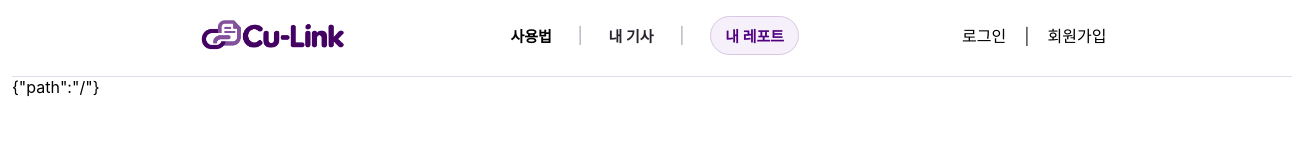
Test case: guest navigation offers an explicit login action and returns to saved articles
Expected: the link "로그인" is shown, [962, 26, 1011, 46]
Click the button "내 기사".
click(631, 35)  # box [608, 24, 654, 46]
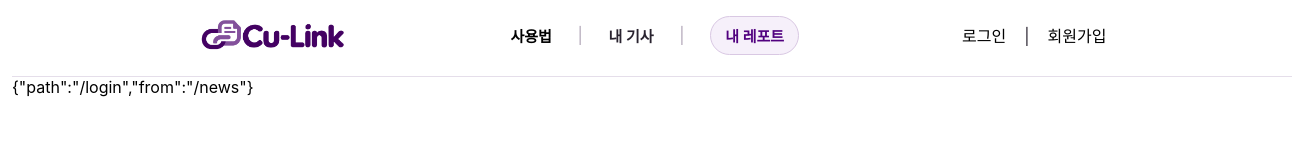
Now the text with test id "position" shows "\"from\":\"/news\"", box [12, 77, 254, 97]
